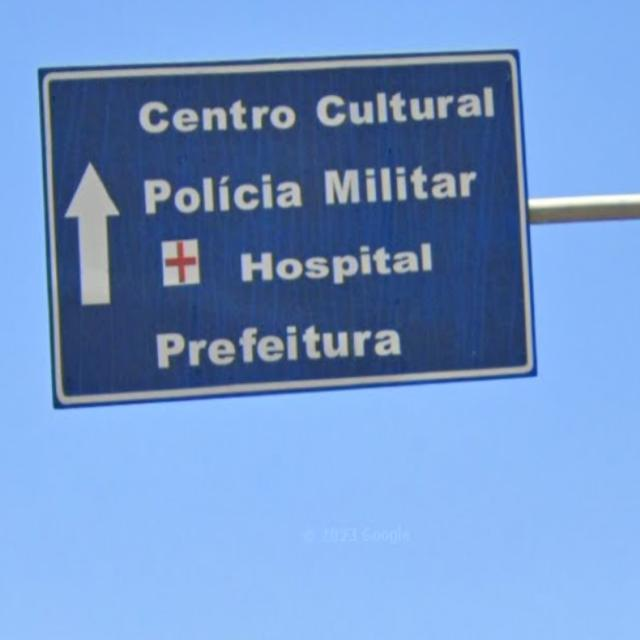indication: (22, 46, 566, 423)
